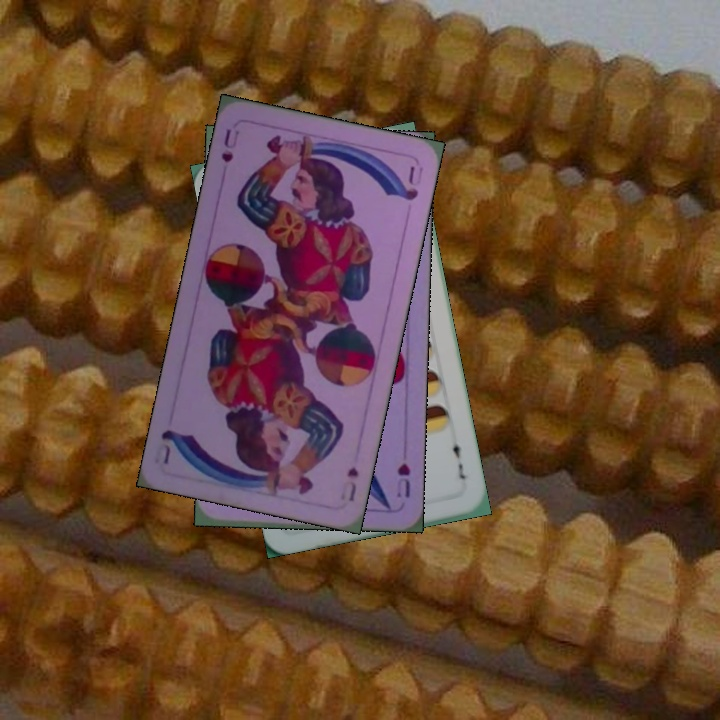E7: (449, 434, 470, 483)
HU: (392, 459, 413, 500)
SU: (217, 124, 242, 165), (342, 462, 361, 505)
